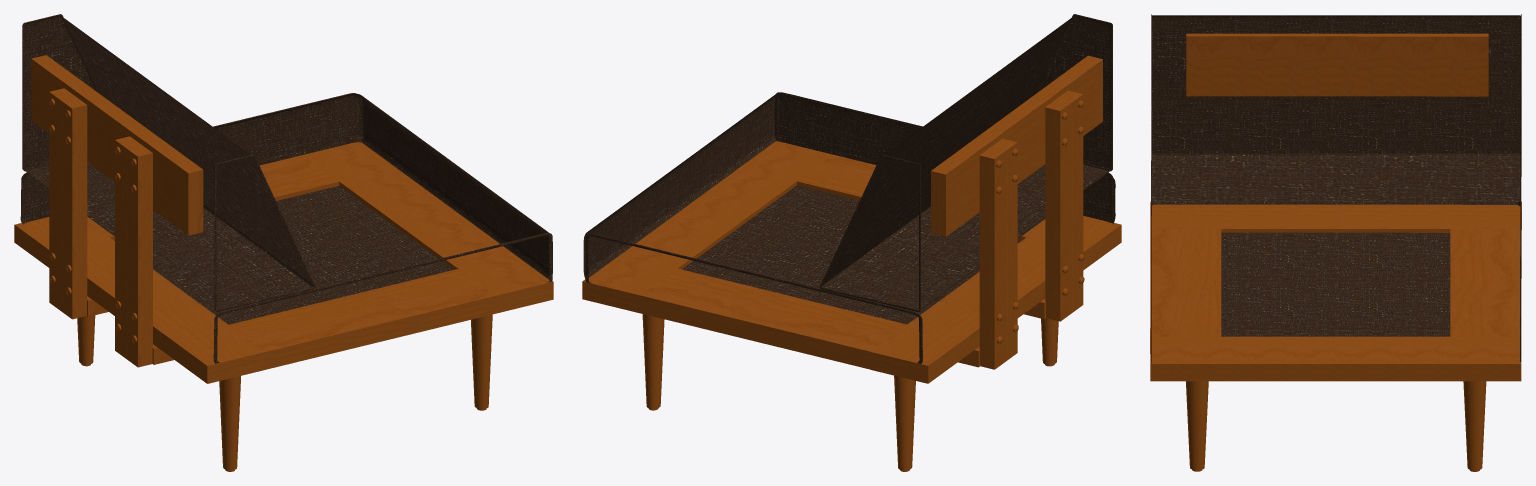
Rendered from chair4git.glb.
3 renders of one model, left to right at view 1: azimuth 30°, elevation 25°; view 2: azimuth 150°, elevation 25°; view 3: azimuth 270°, elevation 25°, orthographic. The views are drawn at different scales.
Visible parts, largest first — view 1: Cylinder.068, Cylinder.005; view 2: Cylinder.068, Cylinder.005; view 3: Cylinder.005, Cylinder.068.
Part boxes in pixels (bbox=[...]): Cylinder.068: bbox=[14, 55, 553, 471]; Cylinder.005: bbox=[20, 14, 552, 363]; Cylinder.068: bbox=[582, 55, 1121, 471]; Cylinder.005: bbox=[583, 14, 1115, 363]; Cylinder.005: bbox=[1151, 14, 1521, 363]; Cylinder.068: bbox=[1150, 33, 1521, 471].
Bounding box in the file's own units: 0.8023 × 0.6981 × 0.7344.
Materials: 2 (2 with a texture image).
